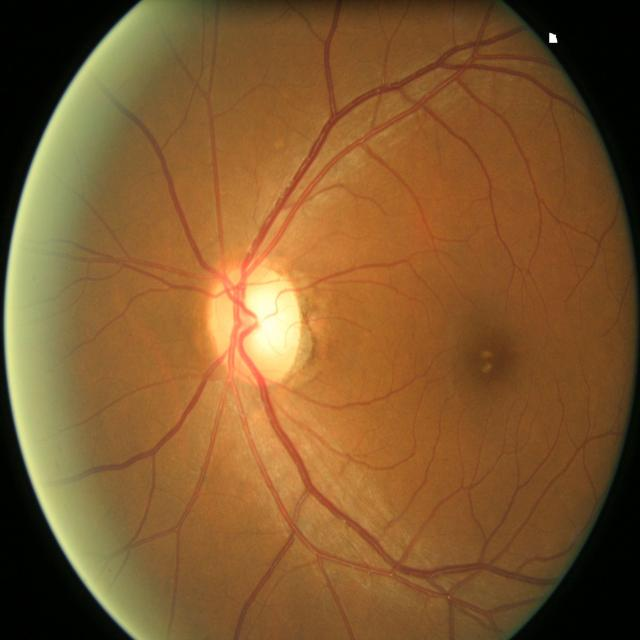OC: (240, 292, 284, 348)
OD: (208, 258, 306, 384)
